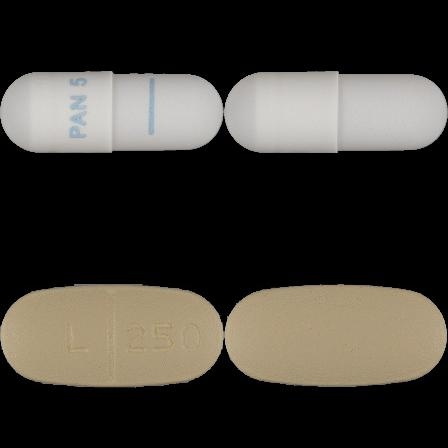39822-0205: (0, 0, 224, 224)
